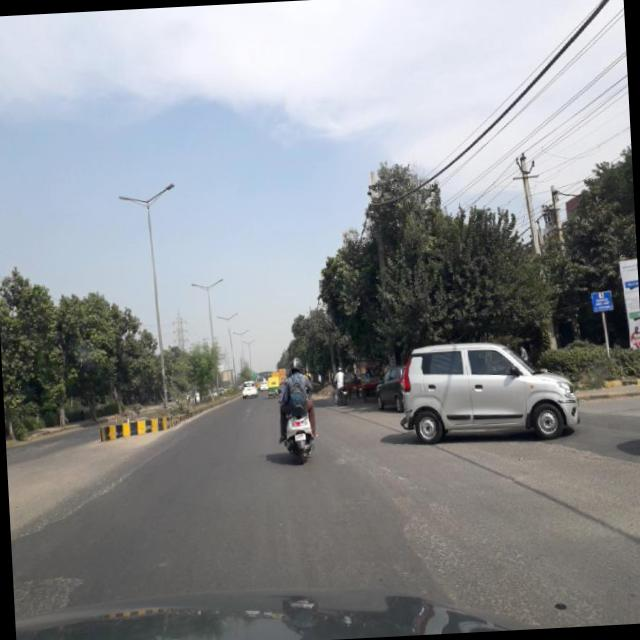pothole: (111, 438, 181, 488), (41, 490, 111, 540)
